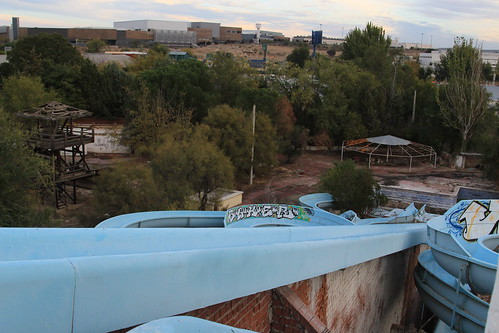building: (27, 95, 103, 208), (21, 18, 238, 47)
graffiti: (448, 199, 499, 240), (221, 199, 300, 224)
sky: (8, 1, 499, 22)
vegetation: (127, 42, 477, 204)
